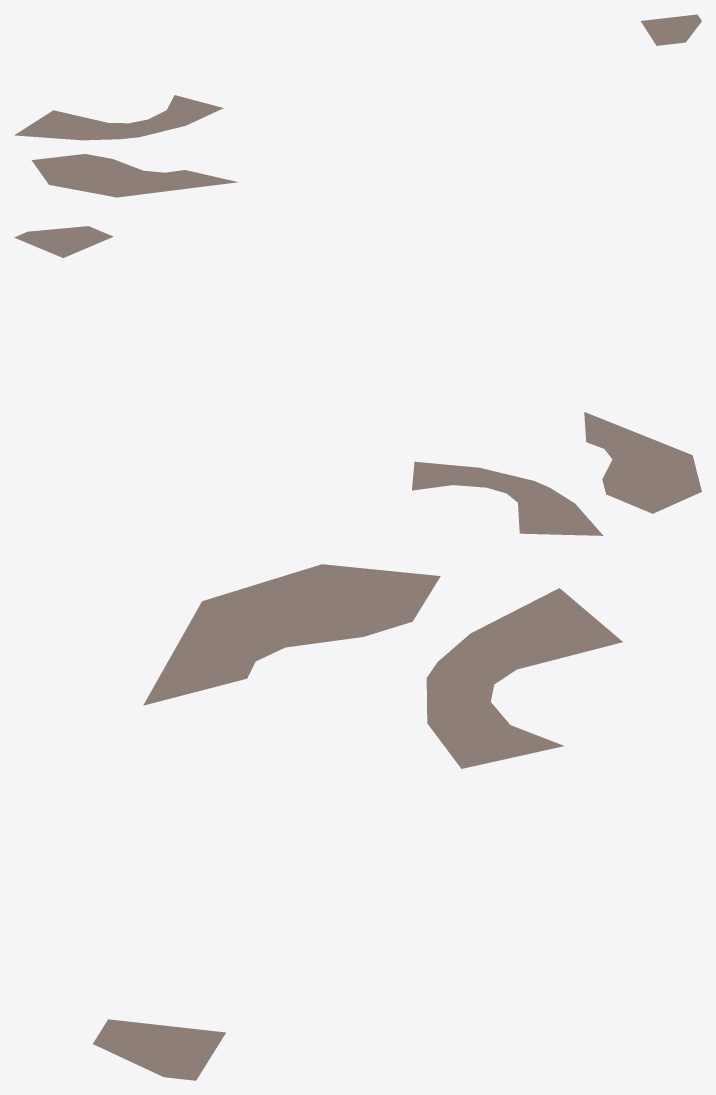
Rendered from kd_stage_136599_0_2.glb.
The picture shows the model from 3 angles, top to bottom: view 1: azimuth 30°, elevation 25°; view 2: azimuth 150°, elevation 25°; view 3: azimuth 270°, elevation 25°; orthographic projection. The views are drawn at different scales.
Visible parts, largest first — view 1: kd_stage_136599_0_2; view 2: kd_stage_136599_0_2; view 3: kd_stage_136599_0_2.
Boxes of the visible parts, <box> form: kd_stage_136599_0_2: <box>14,14,701,197</box>; kd_stage_136599_0_2: <box>14,226,701,535</box>; kd_stage_136599_0_2: <box>93,564,622,1080</box>.
Size of the model in its own units: 207 by 13.74 by 77.07.
1 material, 1 textured.
